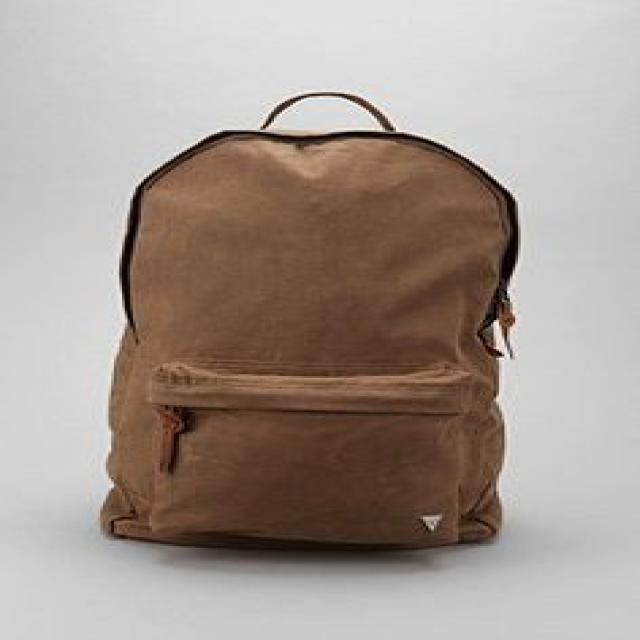backpack: (99, 92, 522, 553)
